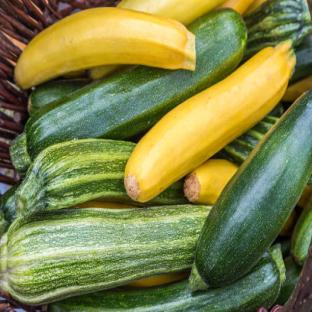Zucchini: (11, 10, 246, 173), (125, 41, 295, 201), (190, 90, 311, 289), (0, 205, 210, 305), (15, 7, 195, 88), (48, 253, 280, 311), (16, 140, 135, 215), (244, 0, 311, 59), (216, 117, 278, 165), (117, 0, 223, 25), (184, 159, 237, 204), (28, 79, 90, 114), (291, 197, 311, 265), (275, 257, 301, 305), (123, 270, 190, 288), (290, 36, 311, 84), (0, 184, 19, 237), (282, 75, 311, 102), (216, 0, 253, 14), (279, 210, 297, 237), (244, 0, 266, 16), (275, 237, 290, 258), (298, 186, 311, 208), (268, 102, 285, 118), (308, 176, 311, 187)
